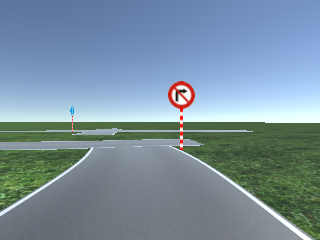-5: (1, 187, 320, 239)
NoRight: (167, 80, 195, 108)
